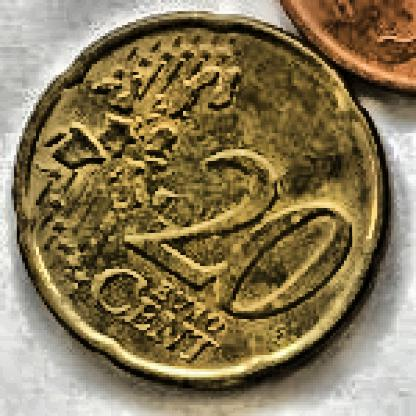coin: (14, 8, 393, 391)
